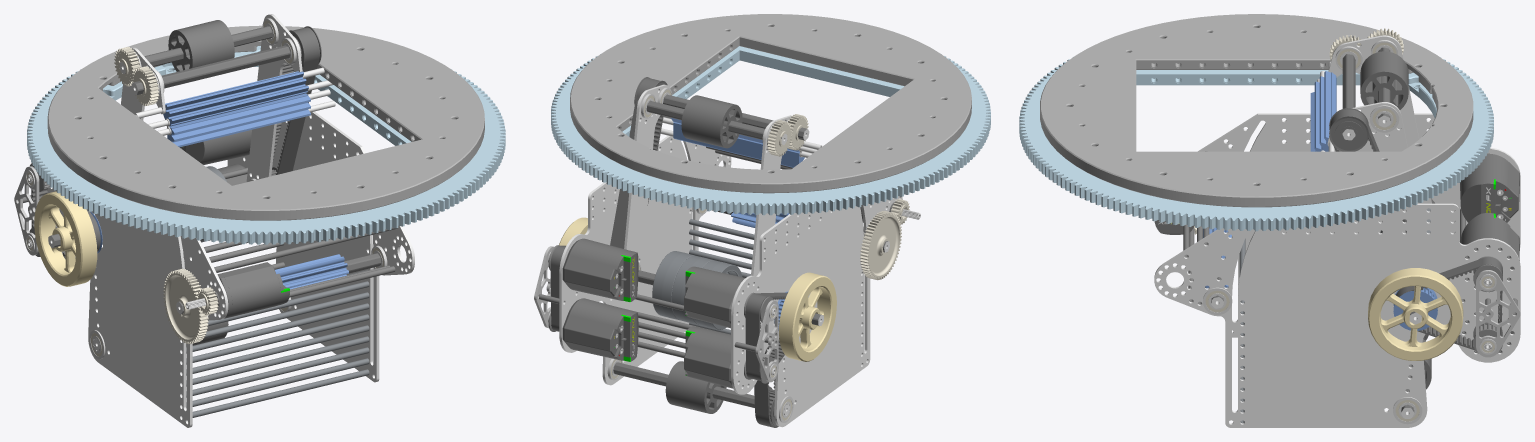
3 views of the same model, side by side, from view 1: azimuth 30°, elevation 25°; view 2: azimuth 150°, elevation 25°; view 3: azimuth 270°, elevation 25° (orthographic). The views are drawn at different scales.
Parts seen in each view (by area): view 1: Part 3, Spur gear (195 teeth), 930-26-P-0501, 930-26-P-0501.001, 4" Brass Flywheel (1/2" Triangle Bore), 10 DP Gear Rack (#10-32 Clearance), 10 DP Gear Rack (#10-32 Clearance).001, Kraken X44 Brushless Motor.001, 930-26-P-0502.001, 60t Pocketed Aluminum Spur Gear (20 DP, 1/2" Hex Bore), 1/2" Rounded Hex (8.438" L, 13.75mm OD), 106T 5M 18mm Wide Belt (+24 smaller); view 2: Part 3, 930-26-P-0501, Spur gear (195 teeth), 930-26-P-0501.001, 4" Brass Flywheel (1/2" Triangle Bore), Kraken X60 Brushless Motor.010, Kraken X60 Brushless Motor.008, Kraken X60 Brushless Motor.009, Kraken X60 Brushless Motor.007, 60t Pocketed Aluminum Spur Gear (20 DP, 1/2" Hex Bore), 930-26-P-0502.001, 70T 5M 18mm Wide Belt (+21 smaller); view 3: 930-26-P-0501.001, Part 3, Spur gear (195 teeth), 4" Brass Flywheel (1/2" Triangle Bore).001, 930-26-P-0501, Kraken X60 Brushless Motor.009, 930-26-P-0503, 1/2" Hex Bore Bearing (1.125" OD, 0.313" WD, Shielded, Flang (×3), Kraken X60 Brushless Motor.010, 930-26-P-0502, 10 DP Gear Rack (#10-32 Clearance), 2" Thrifty Squish Wheel (45A, 1" Wide, 1/2" Hex Bore).005 (+6 smaller).
Part boxes in pixels (x1,y1,x2,y2): Part 3: [47, 25, 484, 220]; Spur gear (195 teeth): [27, 46, 505, 244]; 930-26-P-0501: [47, 187, 228, 427]; 930-26-P-0501.001: [227, 111, 414, 382]; 4" Brass Flywheel (1/2" Triangle Bore): [34, 191, 97, 286]; 10 DP Gear Rack (#10-32 Clearance): [163, 71, 308, 126]; 10 DP Gear Rack (#10-32 Clearance).001: [167, 93, 310, 147]; Kraken X44 Brushless Motor.001: [185, 262, 289, 318]; 930-26-P-0502.001: [246, 14, 303, 181]; 60t Pocketed Aluminum Spur Gear (20 DP, 1/2" Hex Bore): [163, 268, 208, 344]; 1/2" Rounded Hex (8.438" L, 13.75mm OD): [131, 45, 290, 95]; 106T 5M 18mm Wide Belt: [273, 27, 319, 174]; Part 3: [570, 14, 971, 193]; 930-26-P-0501: [731, 196, 902, 427]; Spur gear (195 teeth): [551, 46, 990, 215]; 930-26-P-0501.001: [559, 135, 731, 385]; 4" Brass Flywheel (1/2" Triangle Bore): [779, 272, 836, 361]; Kraken X60 Brushless Motor.010: [562, 238, 638, 301]; Kraken X60 Brushless Motor.008: [562, 298, 638, 361]; Kraken X60 Brushless Motor.009: [684, 266, 775, 328]; Kraken X60 Brushless Motor.007: [684, 326, 775, 388]; 60t Pocketed Aluminum Spur Gear (20 DP, 1/2" Hex Bore): [860, 211, 901, 280]; 930-26-P-0502.001: [624, 84, 670, 283]; 70T 5M 18mm Wide Belt: [745, 292, 787, 380]; 930-26-P-0501.001: [1154, 203, 1520, 427]; Part 3: [1040, 14, 1473, 207]; Spur gear (195 teeth): [1019, 57, 1493, 231]; 4" Brass Flywheel (1/2" Triangle Bore).001: [1368, 268, 1463, 360]; 930-26-P-0501: [1198, 113, 1520, 337]; Kraken X60 Brushless Motor.009: [1460, 153, 1519, 222]; 930-26-P-0503: [1476, 270, 1520, 357]; 1/2" Hex Bore Bearing (1.125" OD, 0.313" WD, Shielded, Flang (×3): [1203, 105, 1422, 424]; Kraken X60 Brushless Motor.010: [1460, 213, 1519, 288]; 930-26-P-0502: [1328, 35, 1431, 203]; 10 DP Gear Rack (#10-32 Clearance): [1314, 71, 1336, 151]; 2" Thrifty Squish Wheel (45A, 1" Wide, 1/2" Hex Bore).005: [1360, 66, 1408, 109].
Size of the model in its own units: 0.5004 by 0.3758 by 0.5284.
